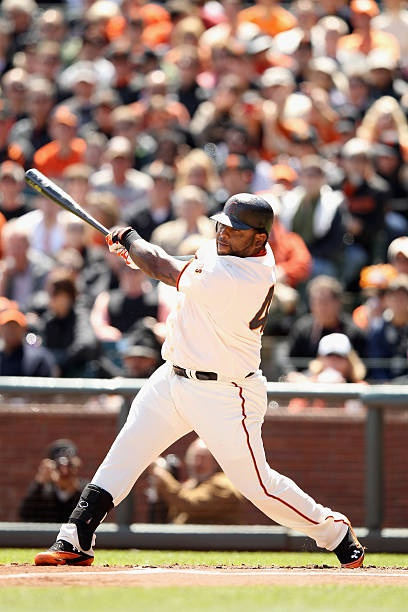bita: (24, 167, 134, 251)
